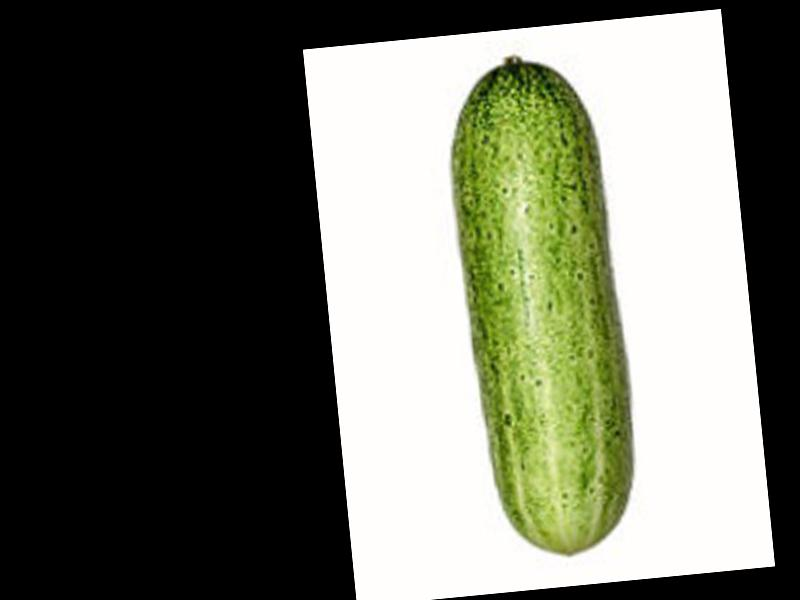Cucumber: (442, 48, 641, 563)
